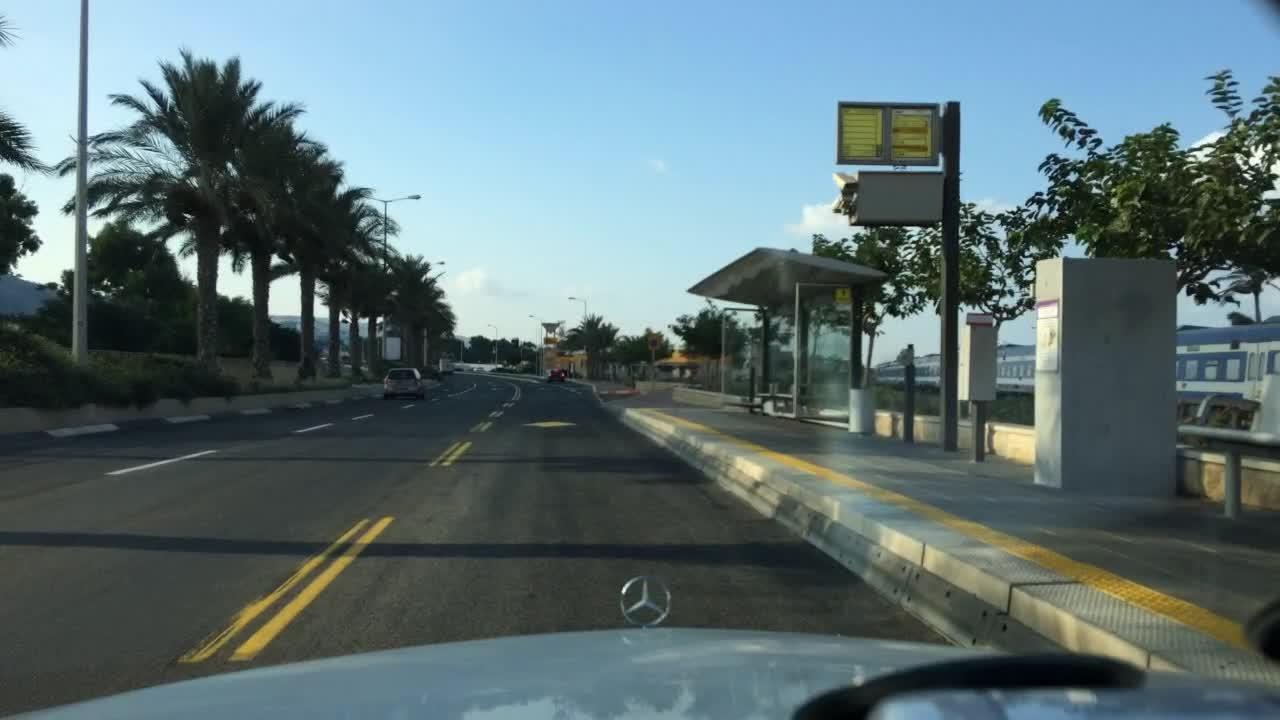Mercedes: (604, 558, 689, 638)
